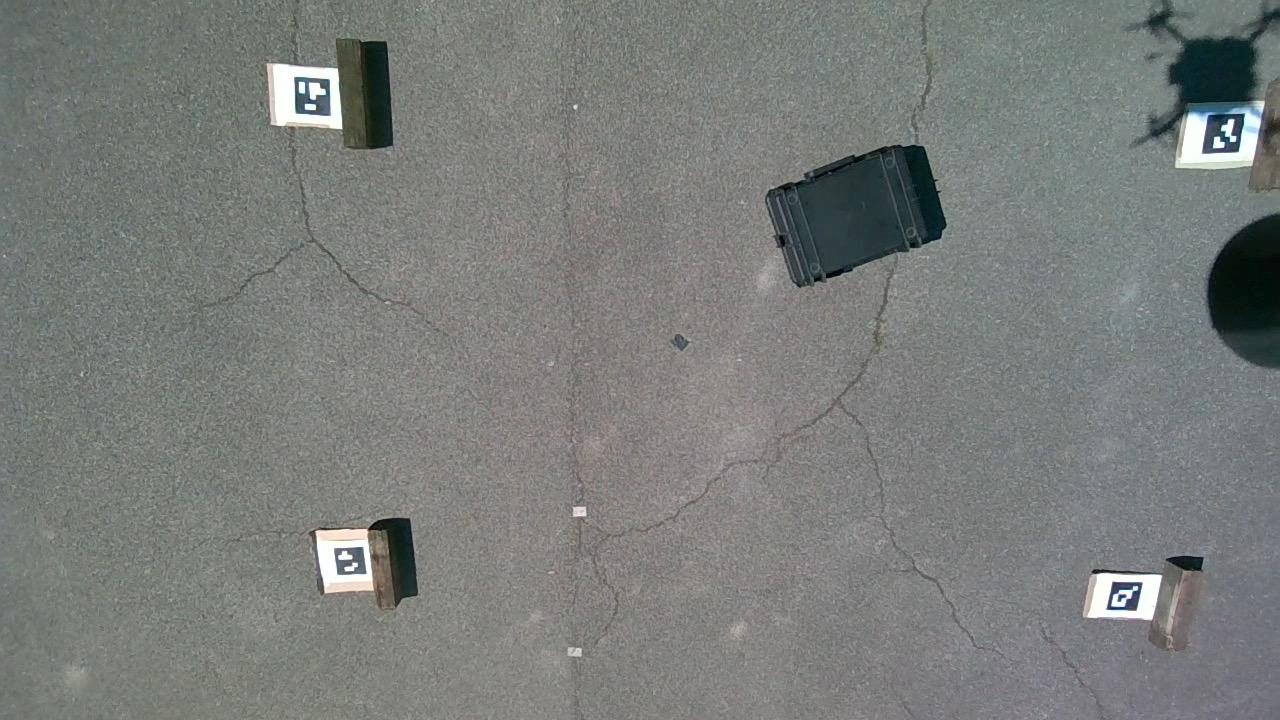rako: (764, 143, 936, 288)
